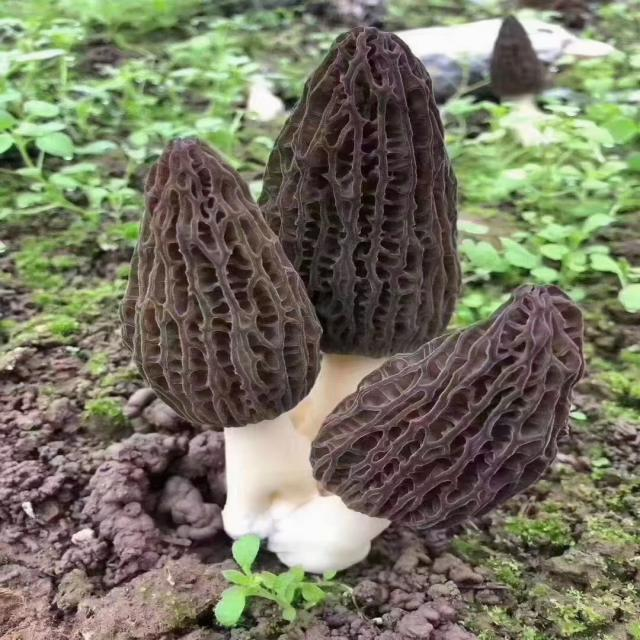Morchella esculenta: (269, 290, 582, 565), (257, 25, 455, 440), (127, 135, 319, 534)
